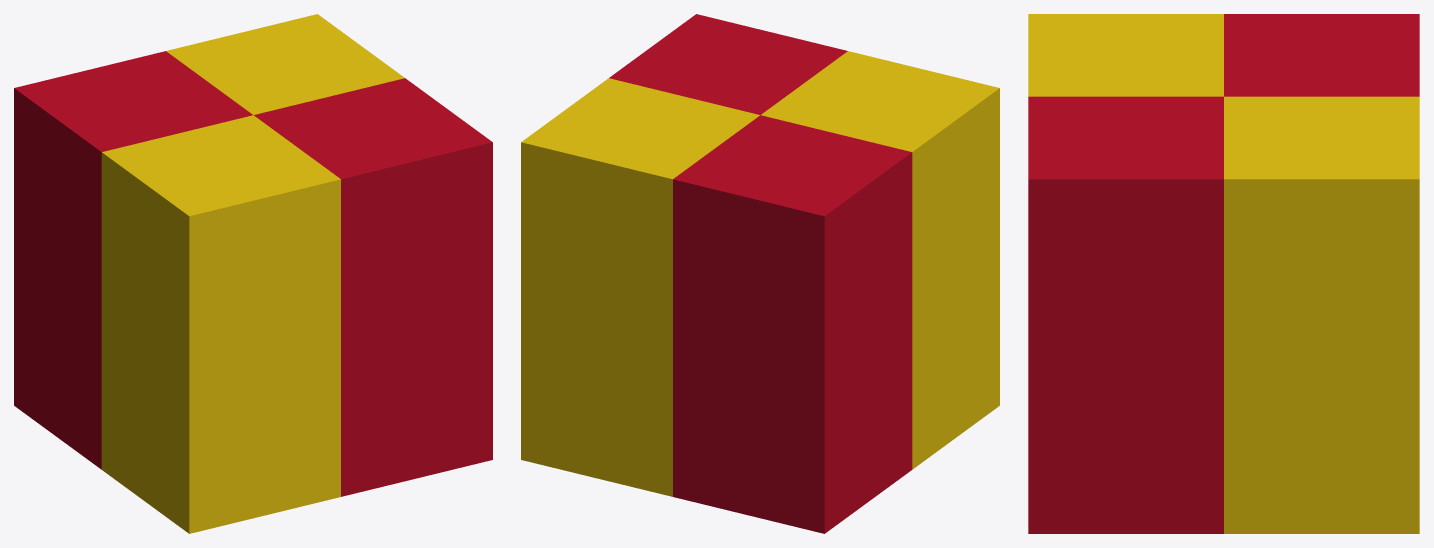
Rendered from button_simple.glb.
The picture shows the model from 3 angles, left to right: view 1: azimuth 30°, elevation 25°; view 2: azimuth 150°, elevation 25°; view 3: azimuth 270°, elevation 25°; orthographic projection. The views are drawn at different scales.
Visible parts, largest first — view 1: Cube; view 2: Cube; view 3: Cube.
Boxes of the visible parts, x1,y1,x2,y2 form: Cube: (14, 14, 492, 533); Cube: (521, 14, 999, 533); Cube: (1028, 14, 1419, 533).
Bounding box in the file's own units: 1 × 1 × 1.
